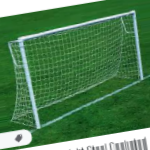goals: (5, 9, 147, 130)
